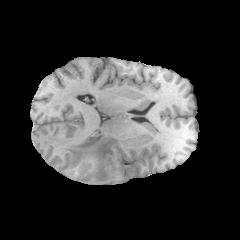glioma: (63, 137, 119, 182)
